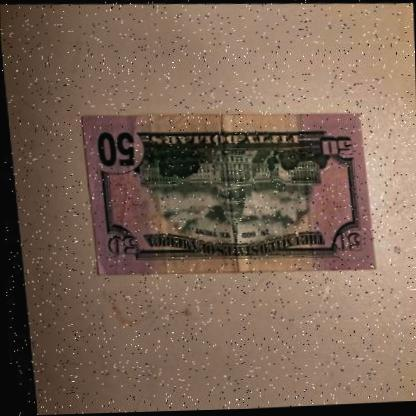fifty-back: (78, 100, 372, 286)
